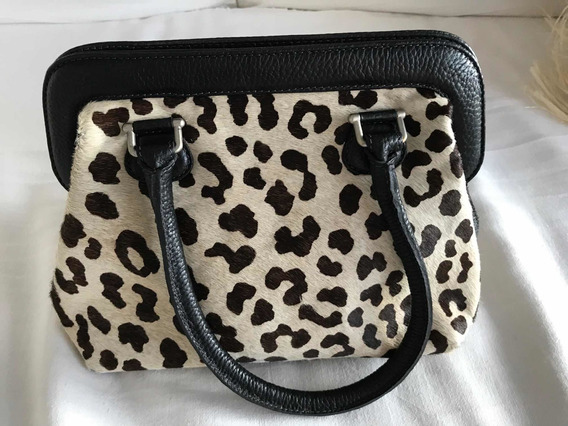cartera: (50, 81, 484, 415)
